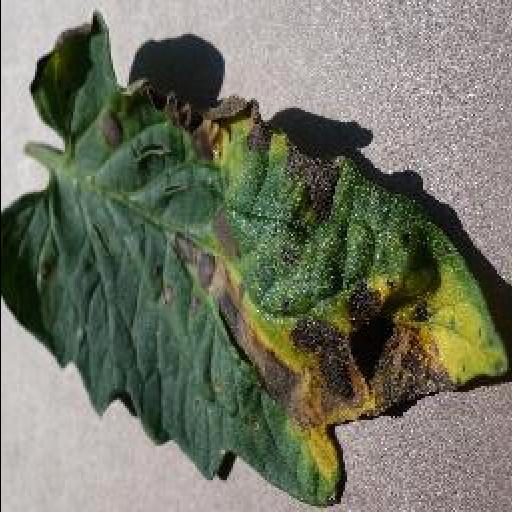disease_tomato: (0, 18, 506, 508)
